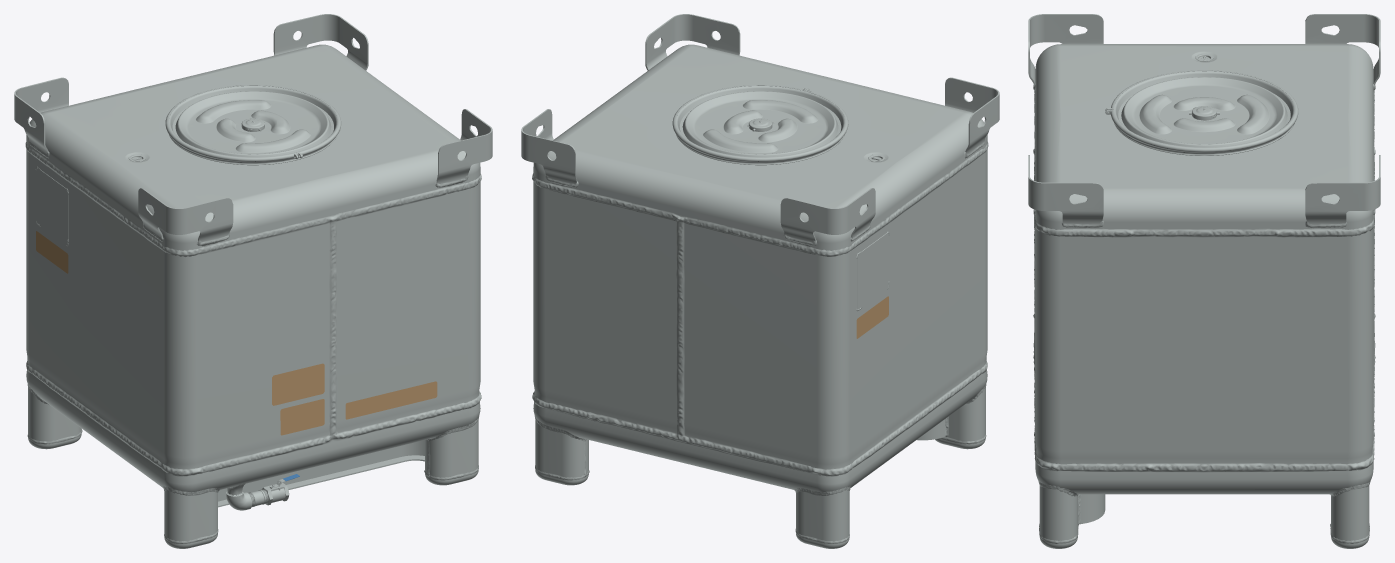
The model's file is ibcTank_steel_stainless_a01.glb.
The picture shows the model from 3 angles, left to right: view 1: azimuth 30°, elevation 25°; view 2: azimuth 150°, elevation 25°; view 3: azimuth 270°, elevation 25°; orthographic projection. The views are drawn at different scales.
Bounding box in the file's own units: 1.26 × 1.3 × 1.11.
